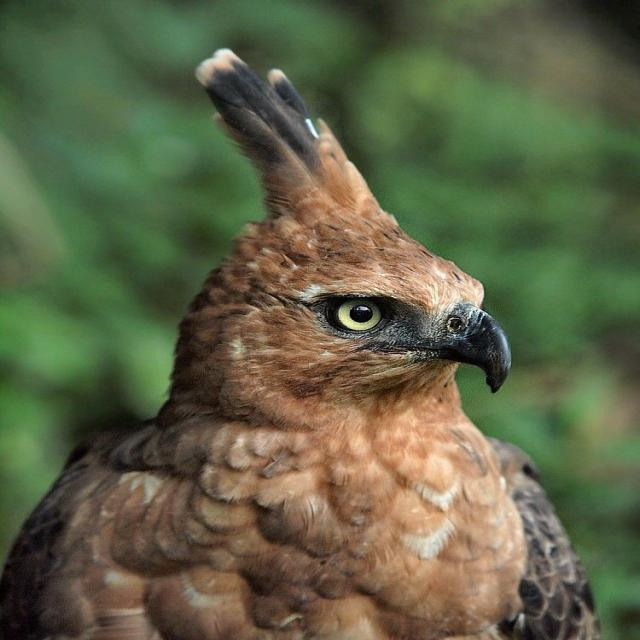Elang Jawa: (6, 40, 640, 640)
